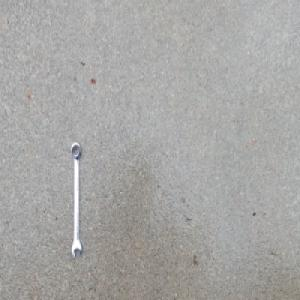Wrench: (70, 140, 83, 259)
